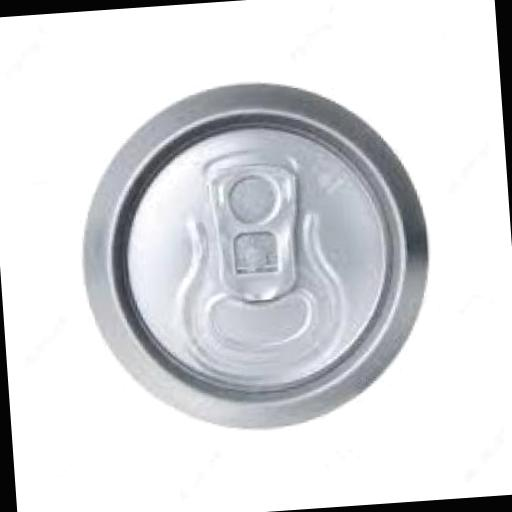metal: (68, 70, 437, 440)
